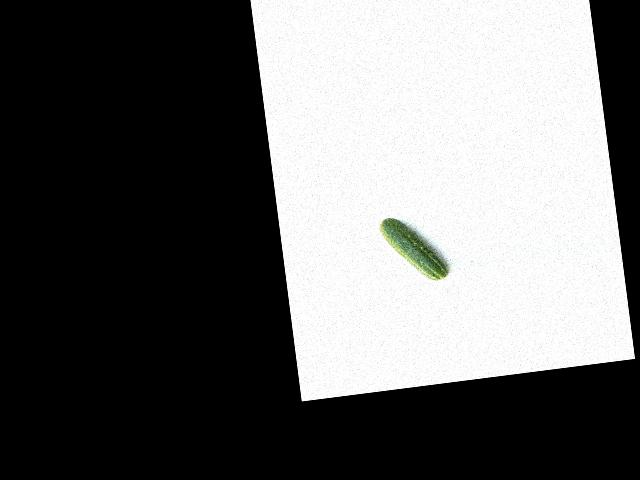cucumber: (378, 211, 449, 287)
